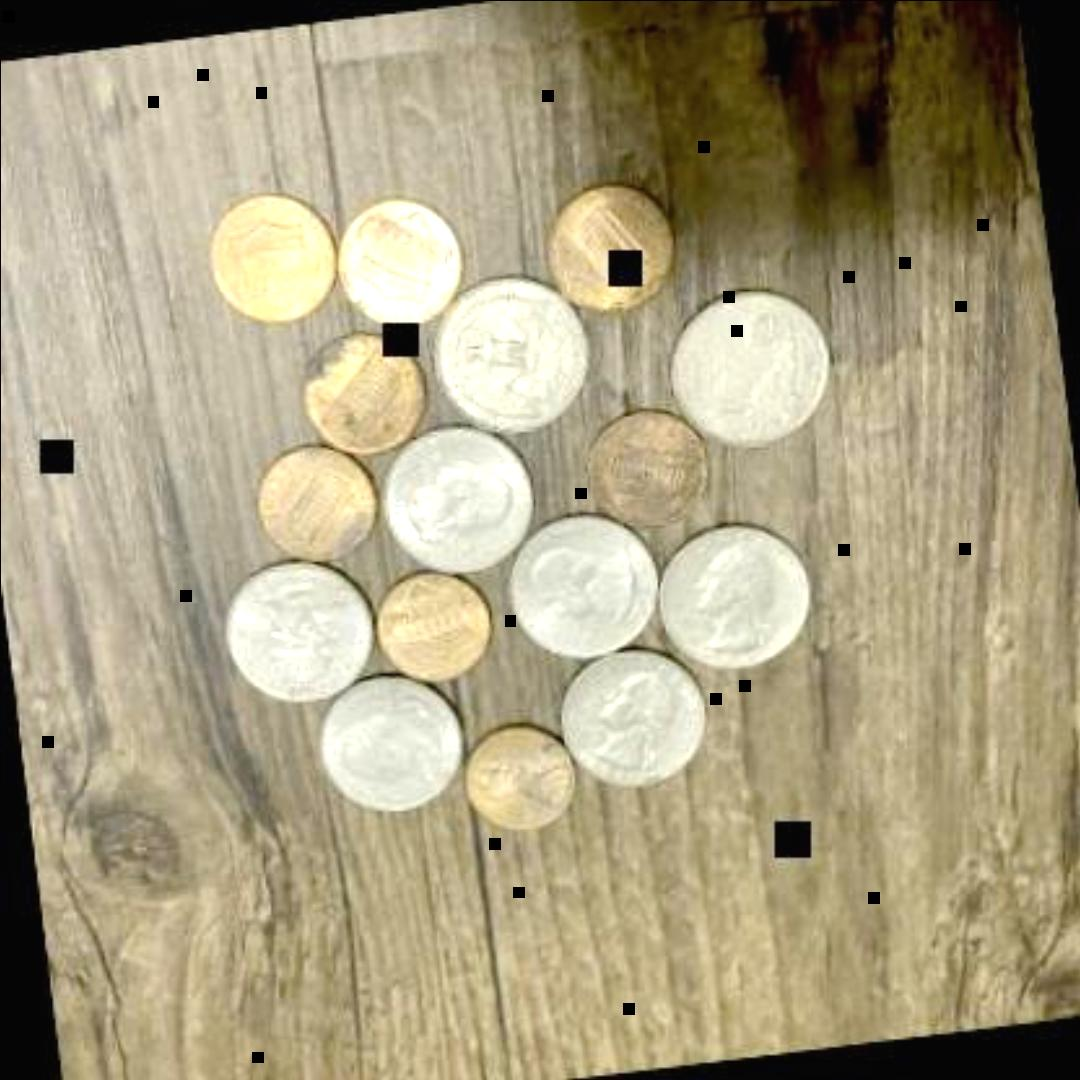Penny: (197, 186, 342, 342), (538, 179, 684, 329), (323, 192, 468, 336), (294, 326, 432, 464), (250, 440, 386, 576), (578, 402, 714, 538), (370, 566, 502, 694), (454, 718, 580, 840)
Quarter: (657, 284, 843, 458), (422, 273, 595, 446), (217, 556, 393, 714), (378, 418, 544, 584), (650, 520, 820, 680), (502, 506, 666, 669), (309, 671, 469, 829), (550, 645, 712, 792)
